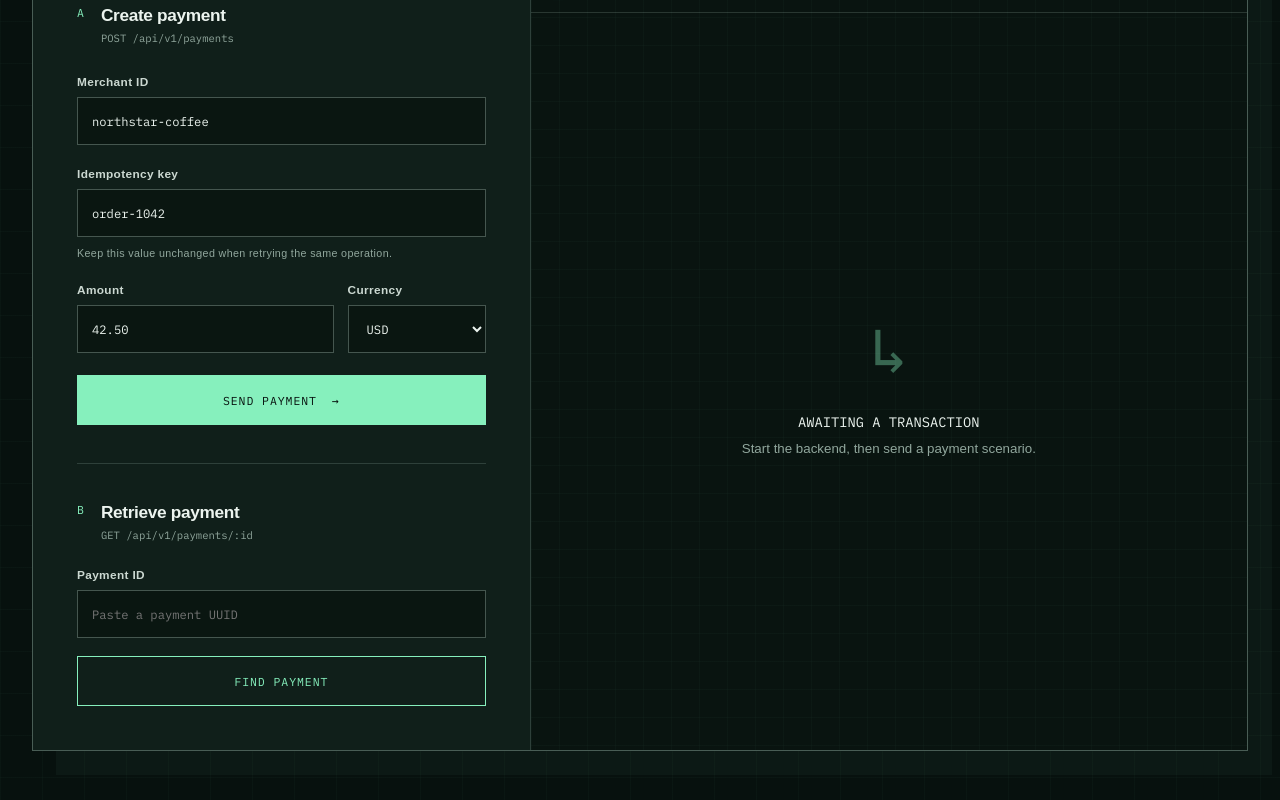
Test: Payment Reliability Console › explains how to recover when the backend is unavailable
The image size is (1280, 800).
(page scrolled)
Click the button "Send payment →": (281,400) top-left (77, 375), bottom-right (486, 425)
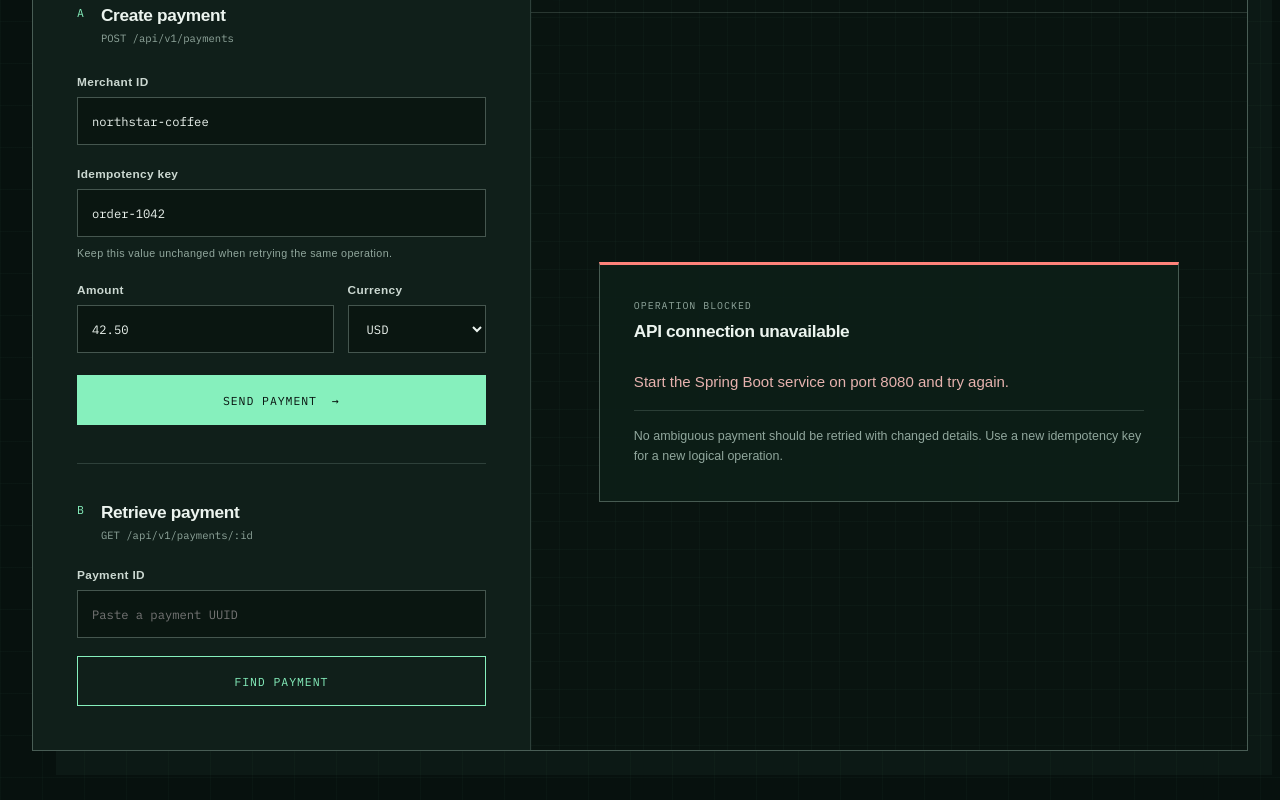
Expected: the heading "API connection unavailable" is shown, top-left (634, 321), bottom-right (849, 342)
Expected: the text "Start the Spring Boot service on port 8080 and try again." is shown, top-left (634, 373), bottom-right (1009, 390)
